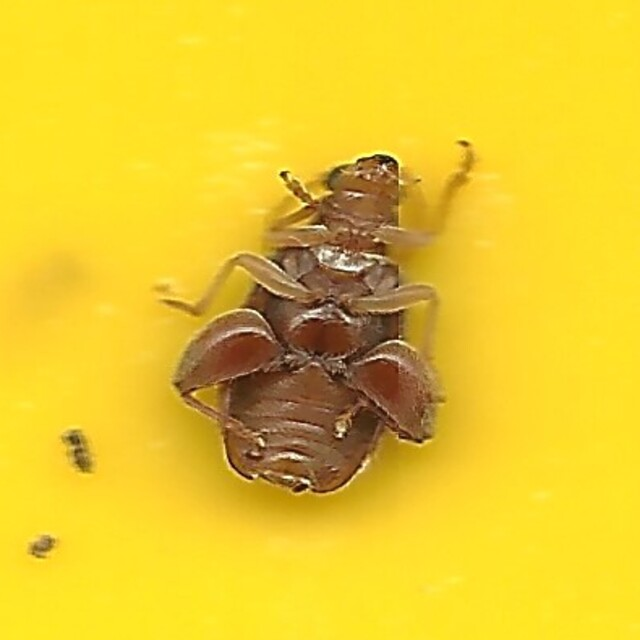Coleoptera: (162, 142, 478, 498)
